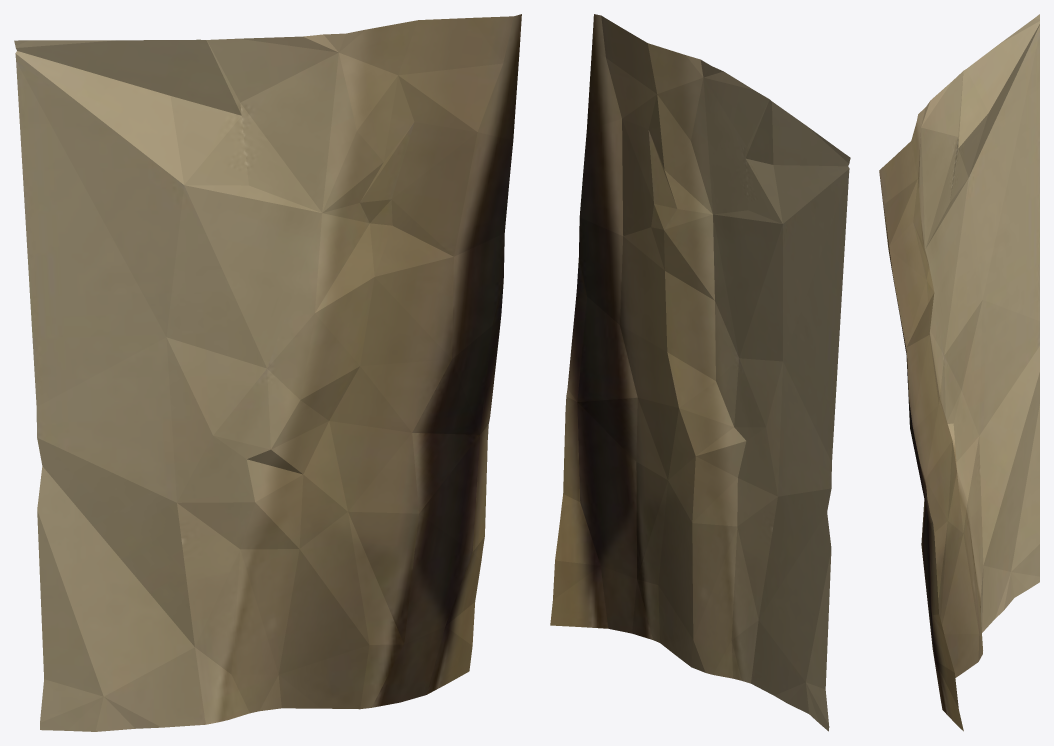
3 views of the same model, side by side, from view 1: azimuth 30°, elevation 25°; view 2: azimuth 150°, elevation 25°; view 3: azimuth 270°, elevation 25° (orthographic). The views are drawn at different scales.
Size of the model in its own units: 0.5139 by 0.8374 by 0.2184.
Materials: 2 (2 with a texture image).
